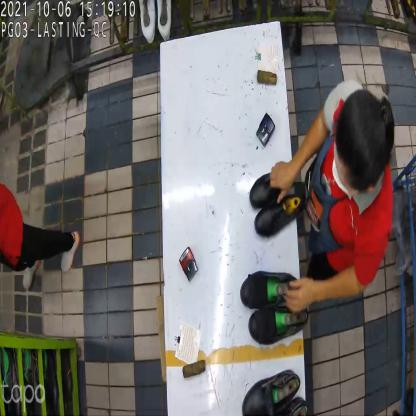shoes: (238, 272, 311, 346), (250, 174, 308, 238), (240, 370, 309, 416)
stamp: (256, 112, 276, 148), (180, 246, 198, 281)
